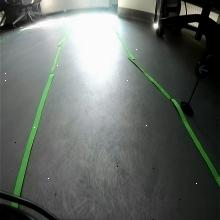left: (195, 58, 211, 80)
